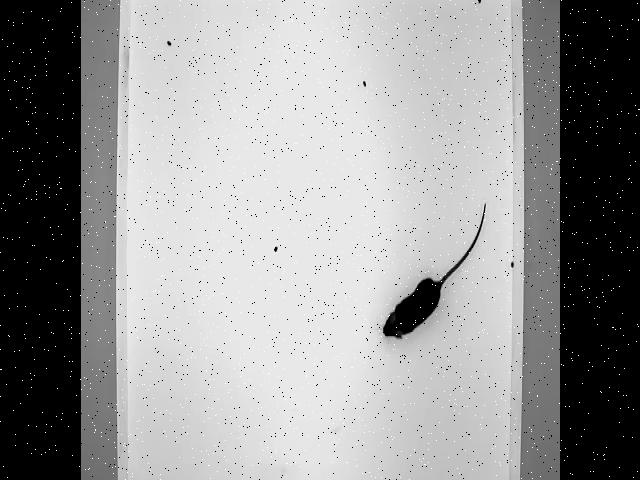Tikus: (380, 199, 490, 356)
